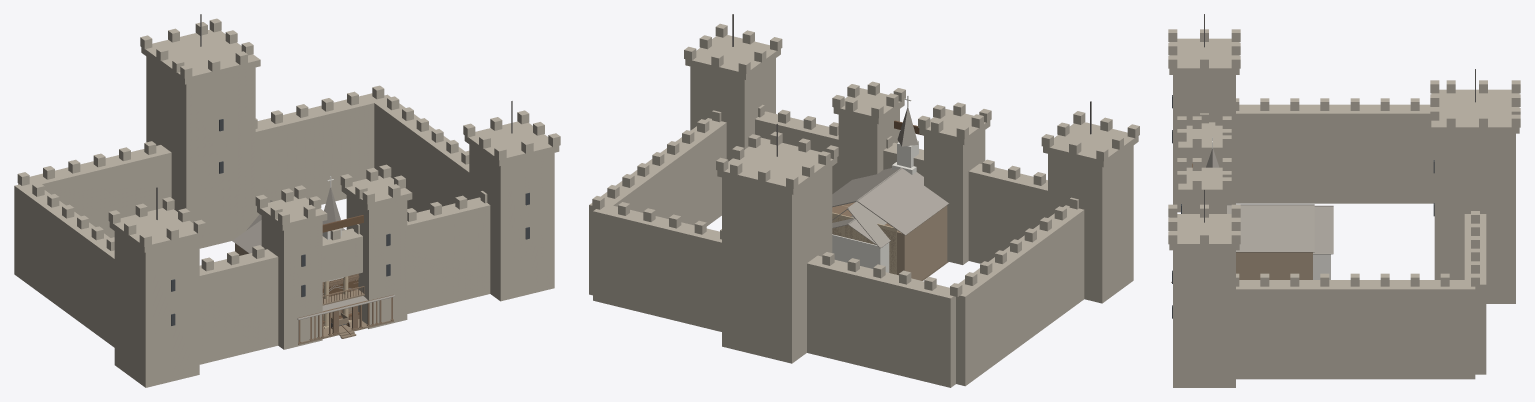
Rendered from town_kit.glb.
The picture shows the model from 3 angles, left to right: view 1: azimuth 30°, elevation 25°; view 2: azimuth 150°, elevation 25°; view 3: azimuth 270°, elevation 25°; orthographic projection.
Parts seen in each view (by area): view 1: FortKnox_geo, Bldg_Saloon_geo, Bldg_Certificates_geo, Bldg_C_geo, Church_geo; view 2: FortKnox_geo, Bldg_Saloon_geo, Church_geo, Bldg_Treasury_geo; view 3: FortKnox_geo, Bldg_Saloon_geo, Church_geo.
Boxes of the visible parts, x1,y1,x2,y2 form: FortKnox_geo: [14, 14, 560, 387]; Bldg_Saloon_geo: [232, 220, 395, 344]; Bldg_Certificates_geo: [313, 282, 379, 340]; Bldg_C_geo: [321, 275, 371, 337]; Church_geo: [246, 176, 343, 312]; FortKnox_geo: [589, 14, 1139, 387]; Bldg_Saloon_geo: [832, 167, 948, 280]; Church_geo: [832, 95, 918, 272]; Bldg_Treasury_geo: [832, 201, 898, 274]; FortKnox_geo: [1168, 14, 1520, 387]; Bldg_Saloon_geo: [1227, 204, 1314, 279]; Church_geo: [1206, 137, 1333, 279].
Size of the model in its own units: 54 by 26.8 by 39.
